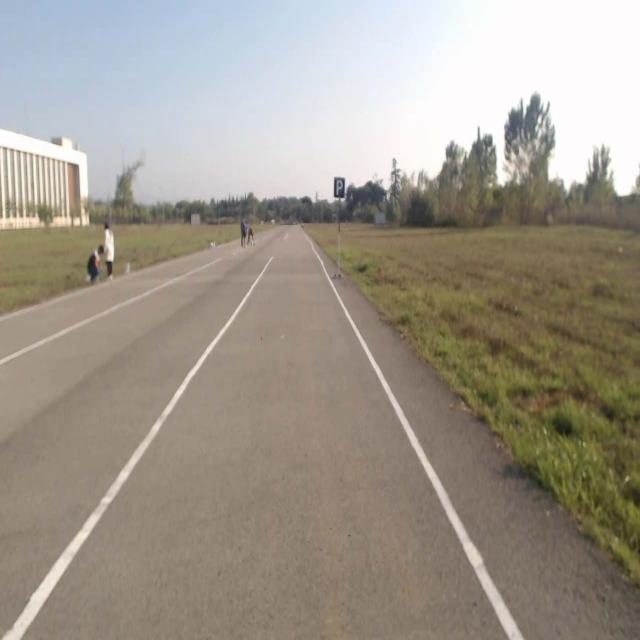park: (334, 178, 344, 198)
